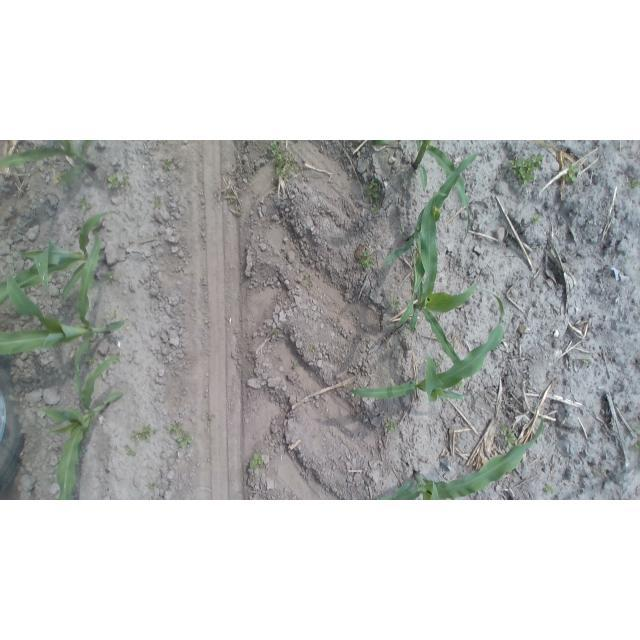Maize: (1, 233, 124, 403), (344, 287, 509, 406), (382, 148, 485, 333), (383, 187, 477, 385), (9, 349, 126, 500), (373, 400, 545, 500), (1, 207, 122, 317), (407, 140, 474, 246), (1, 140, 104, 186)
Weeds: (507, 151, 545, 185), (266, 140, 298, 180), (364, 179, 384, 218), (132, 423, 156, 443), (499, 424, 518, 449), (105, 172, 128, 190), (358, 251, 377, 272), (247, 451, 265, 469), (163, 423, 185, 437), (565, 163, 579, 185), (175, 435, 195, 449), (160, 156, 175, 172), (389, 296, 403, 313), (543, 483, 558, 498), (383, 419, 397, 435), (80, 196, 93, 213), (529, 213, 543, 227), (124, 444, 139, 457), (152, 196, 166, 209), (453, 379, 466, 390), (85, 355, 98, 365), (234, 206, 247, 216), (629, 178, 639, 191), (271, 329, 282, 340), (106, 273, 118, 282), (304, 274, 313, 286), (631, 424, 640, 435), (580, 358, 592, 366), (633, 440, 640, 452), (228, 194, 237, 203), (309, 345, 318, 354), (146, 483, 156, 491), (56, 172, 66, 180), (110, 311, 118, 320), (627, 254, 635, 262), (255, 163, 262, 172), (245, 171, 251, 179)
